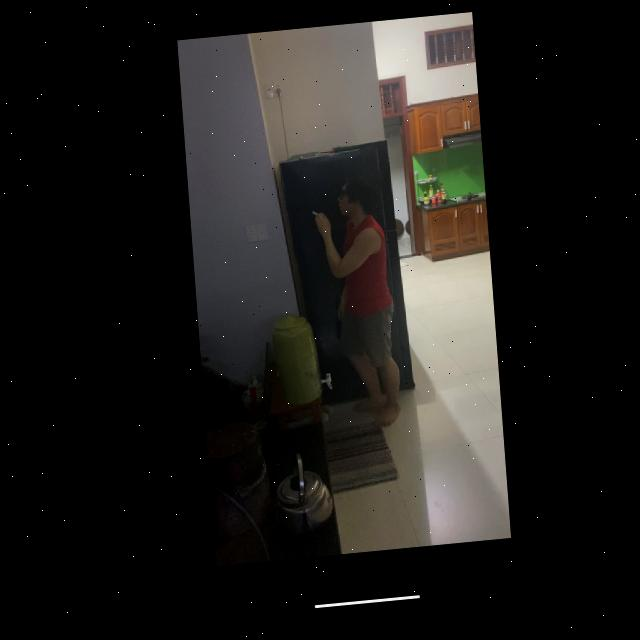cigarette: (308, 216, 314, 223)
